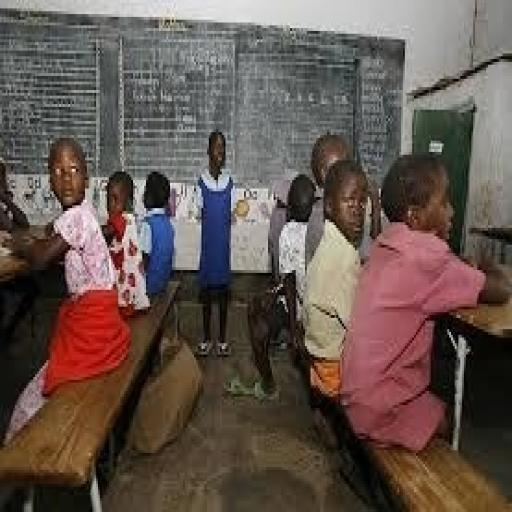sitting: (336, 149, 508, 453), (4, 132, 133, 445), (299, 155, 381, 402), (137, 166, 177, 301)
